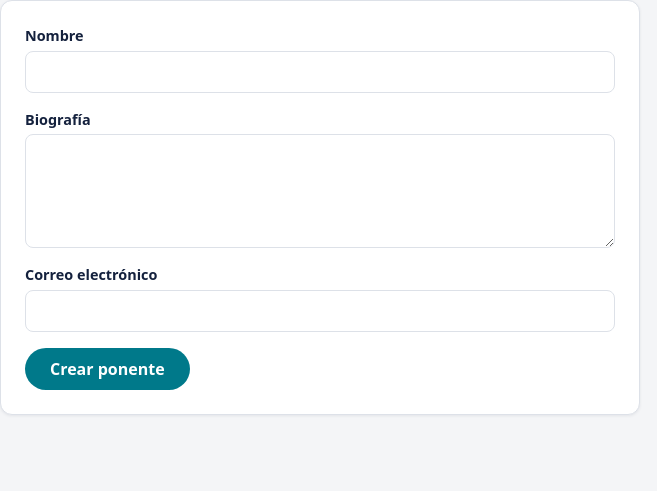
Scenario: SpeakerForm › shows any other rejection above the form
Type "Grace Hopper" into the field labelled "Nombre" at (320, 72), box [25,51,615,93]
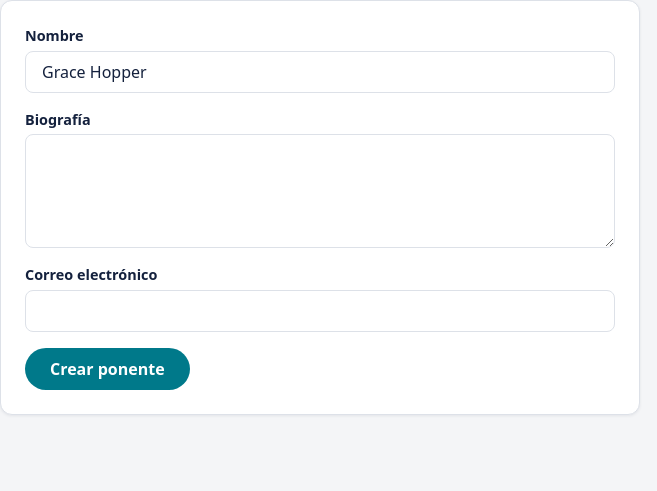
Click the button "Crear ponente" at (107, 369), box [25,348,190,390]
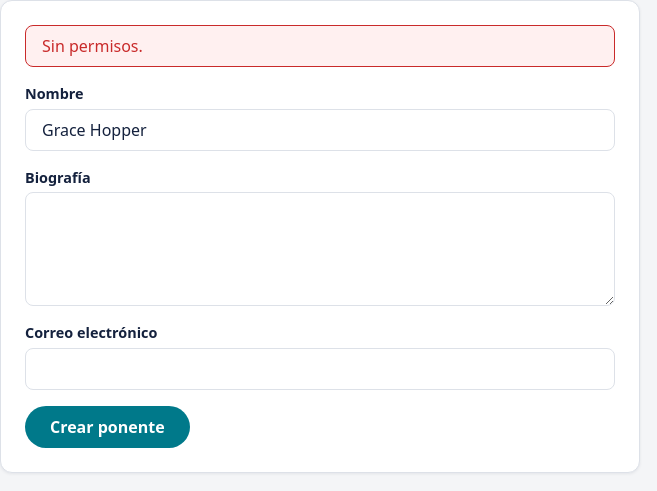
Now the message reads "Sin permisos.", box [42,35,143,57]
